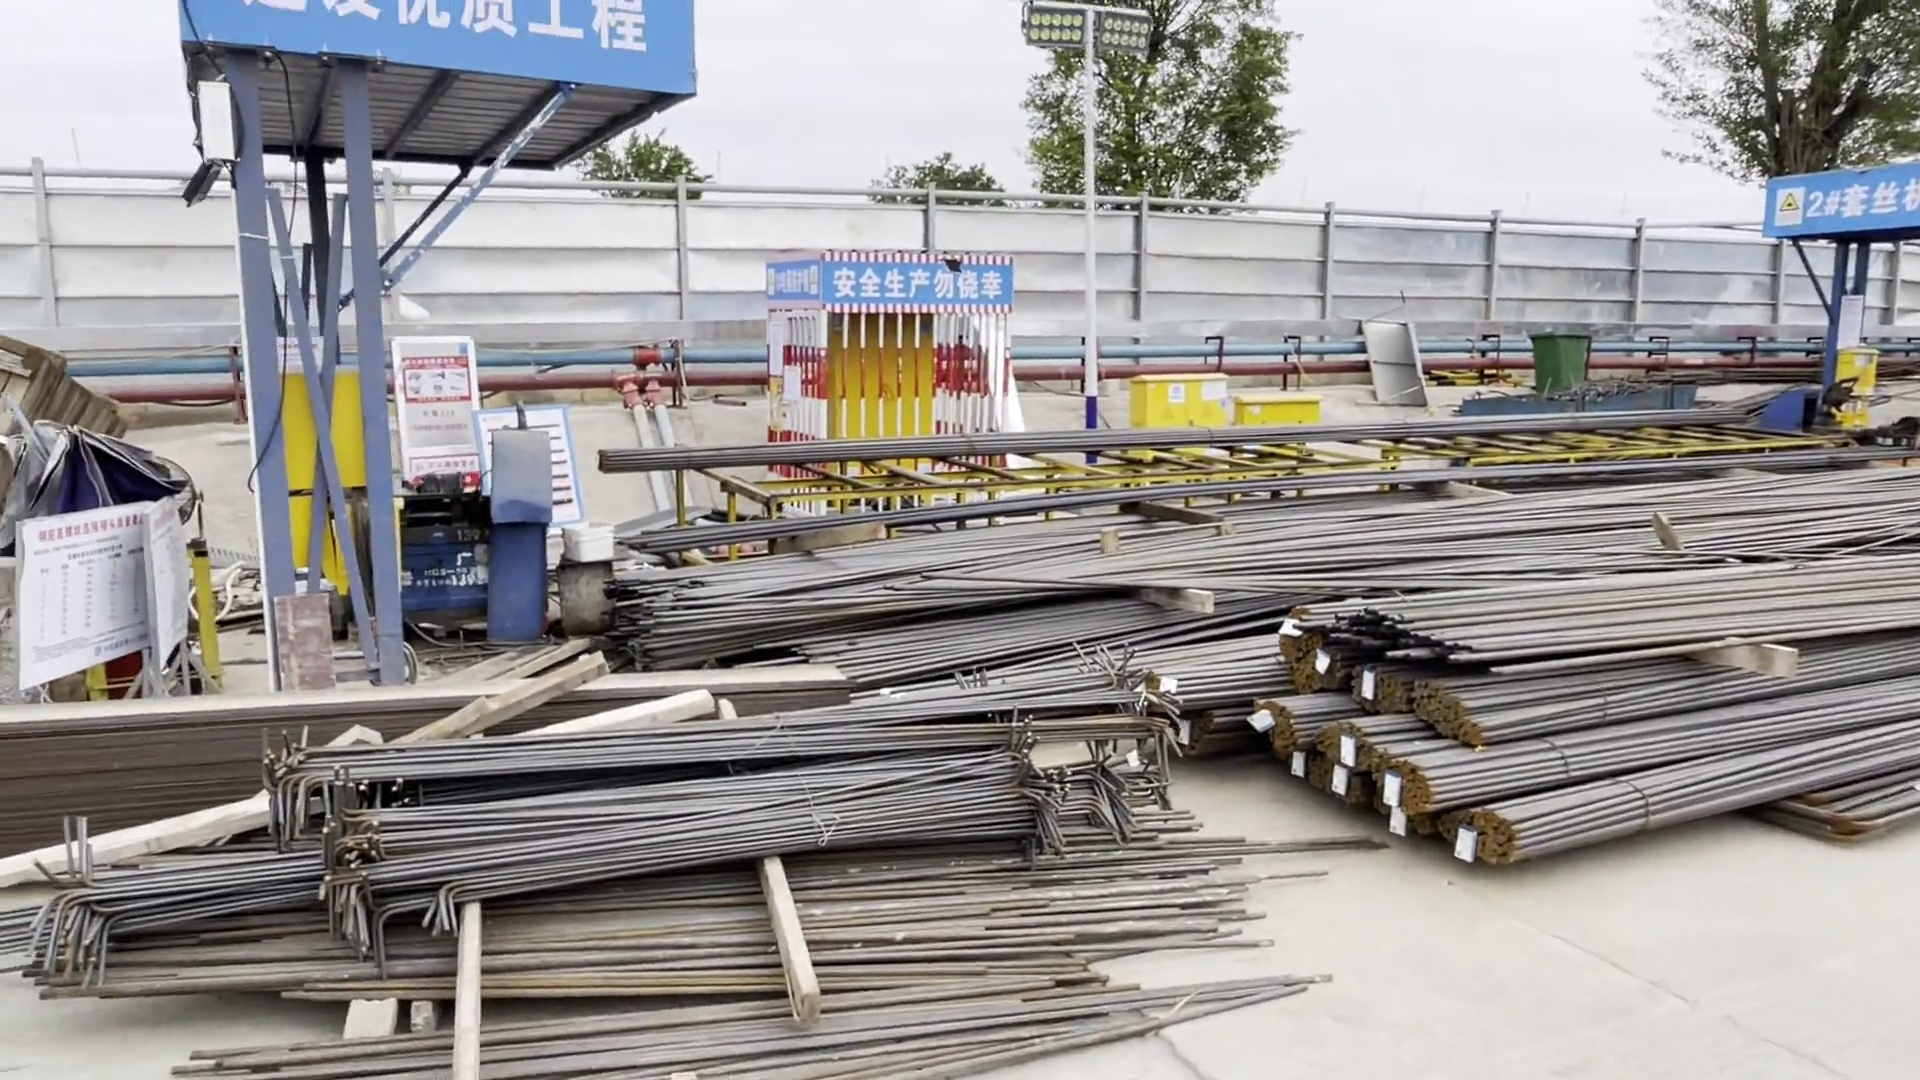ebox: (1122, 363, 1229, 434), (1836, 342, 1884, 435), (1234, 382, 1327, 431)
rebar: (21, 824, 1320, 1080), (604, 430, 1899, 630), (269, 680, 1191, 905), (1284, 553, 1920, 858)
slogan: (306, 1, 695, 91), (764, 260, 1007, 311)
